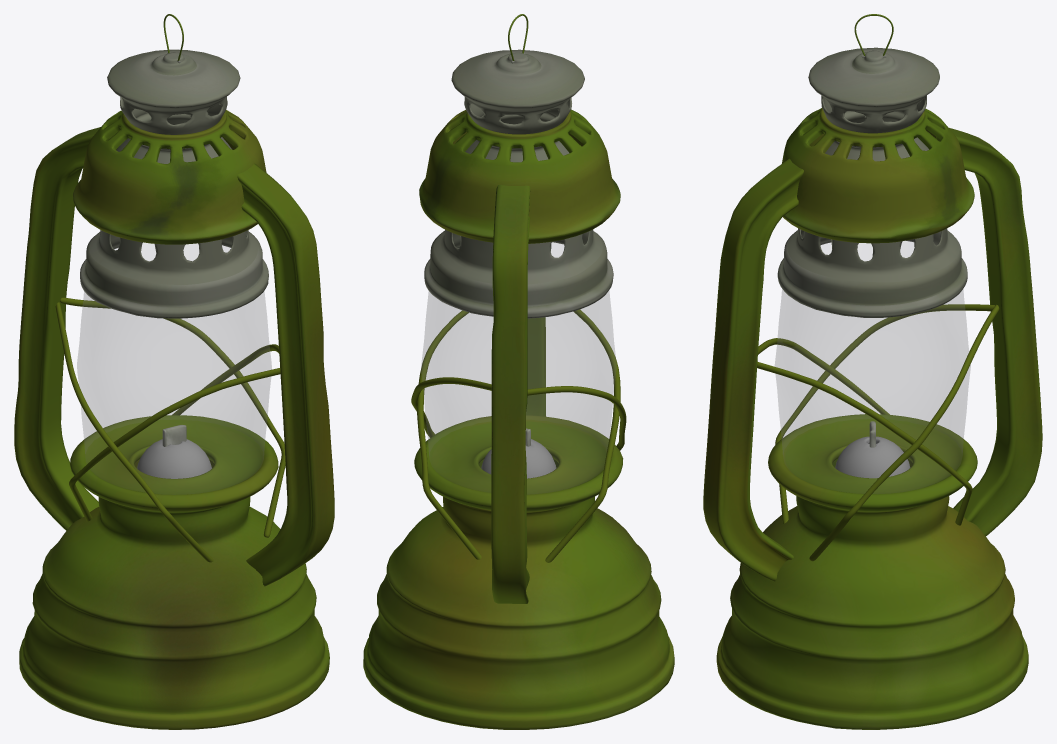
File: gas_light_lamp.glb
The picture shows the model from 3 angles, left to right: view 1: azimuth 30°, elevation 25°; view 2: azimuth 150°, elevation 25°; view 3: azimuth 270°, elevation 25°; orthographic projection.
Parts seen in each view (by area): view 1: bottom, glass, top, left wing, top cover, right wing, ball, wire4, wire1, wire2, wire3; view 2: bottom, glass, top, top cover, right wing, wire2, wire3, left wing, ball, wire4, wire1; view 3: bottom, glass, top, left wing, top cover, right wing, wire1, ball, wire3, wire4, wire2.
Boxes of the visible parts, x1,y1,x2,y2 form: bottom: (19, 415, 329, 729); glass: (77, 243, 271, 494); top: (80, 49, 268, 318); left wing: (237, 163, 334, 586); top cover: (73, 110, 266, 244); right wing: (14, 127, 117, 530); ball: (137, 439, 211, 478); wire4: (55, 302, 213, 562); wire1: (60, 297, 285, 537); wire2: (69, 368, 280, 521); wire3: (172, 344, 279, 415); bottom: (363, 415, 674, 729); glass: (421, 242, 616, 493); top: (424, 49, 613, 318); top cover: (419, 109, 620, 243); right wing: (491, 185, 530, 603); wire2: (545, 309, 620, 562); wire3: (417, 310, 481, 559); left wing: (526, 317, 545, 416); ball: (481, 439, 556, 478); wire4: (527, 386, 626, 450); wire1: (411, 377, 491, 437); bottom: (716, 414, 1028, 729); glass: (775, 240, 970, 493); top: (777, 47, 967, 317); left wing: (703, 158, 803, 581); top cover: (782, 108, 974, 243); right wing: (936, 128, 1042, 535); wire1: (809, 304, 999, 561); ball: (835, 436, 910, 478); wire3: (757, 361, 972, 525); wire4: (775, 304, 994, 523); wire2: (758, 338, 889, 414).
Size of the model in its own units: 3.5 by 8.06 by 3.81.
14 materials, 12 textured.
